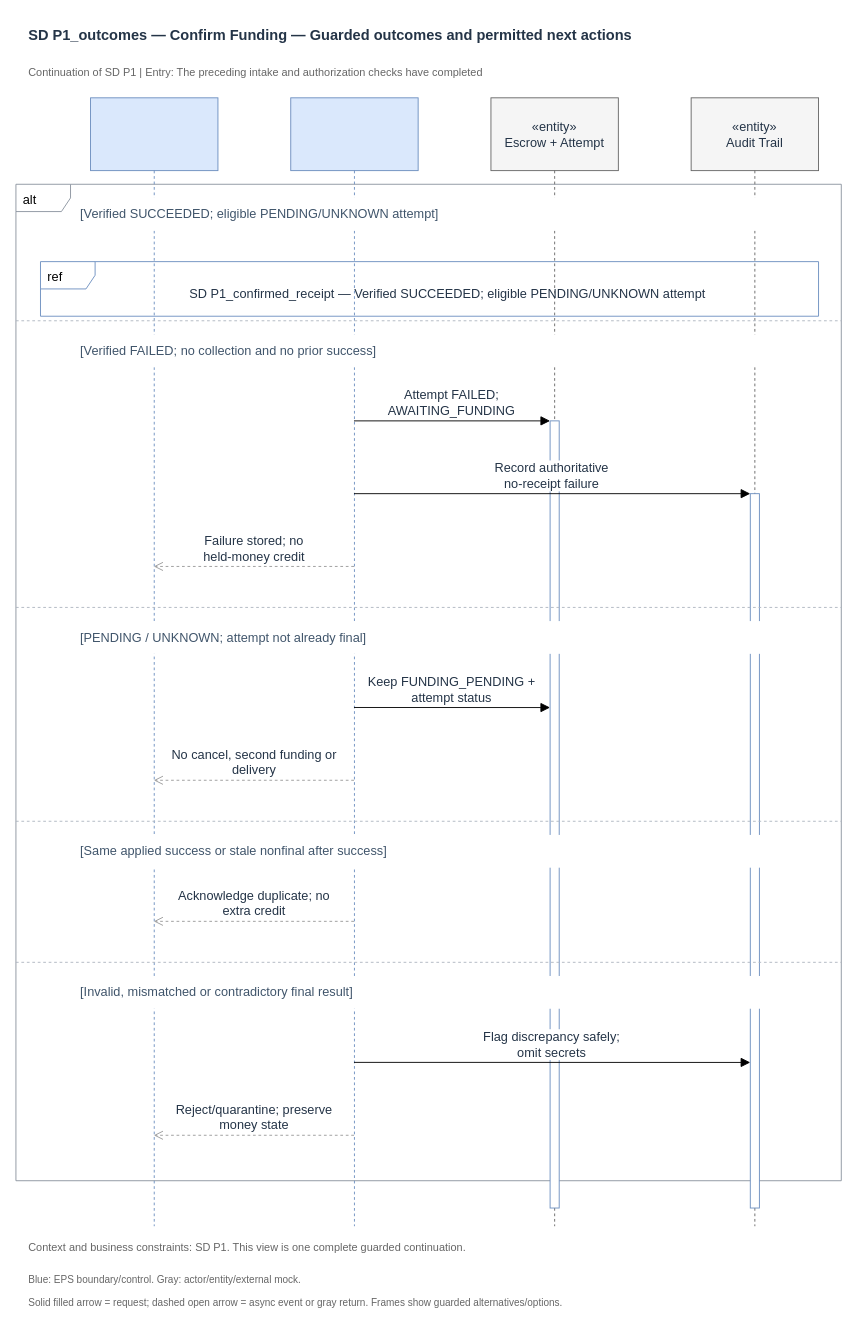
Image size: 862x1331. Some labels were removed from this diagram. The centre of each missing label's shape, as x and y in pixels:
"«boundary» Payment Boundary" belongs at point (154, 661).
"«control» Payment Control" belongs at point (354, 661).
